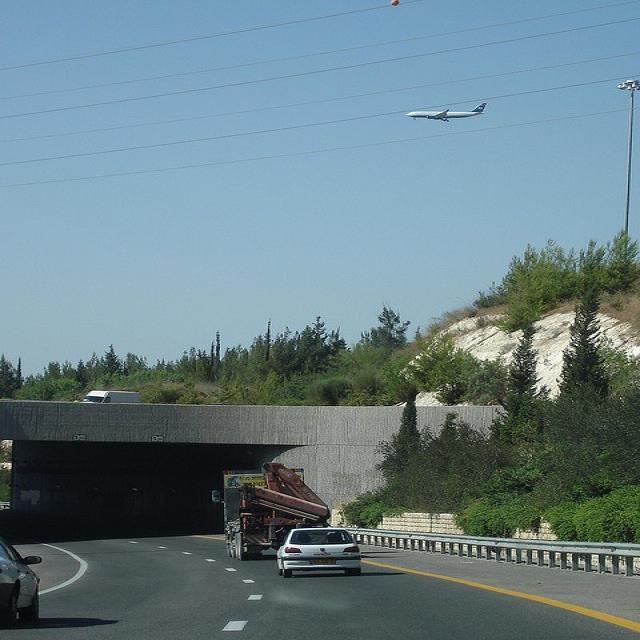car: (270, 525, 362, 576), (0, 534, 41, 624)
truck: (209, 461, 332, 560), (78, 390, 138, 401)
